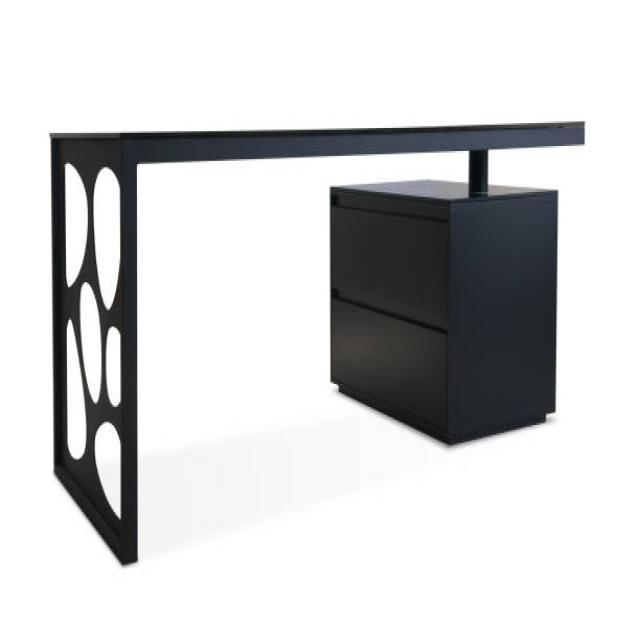table: (50, 120, 585, 564)
